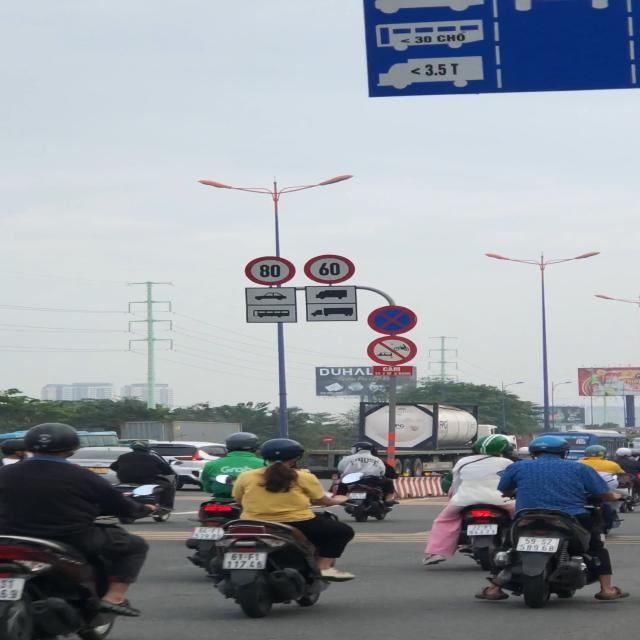Bien bao cam dung xe va do xe: (366, 304, 419, 336)
Bien bao toc do toi da cho phep: (244, 255, 296, 287), (303, 254, 357, 284)
